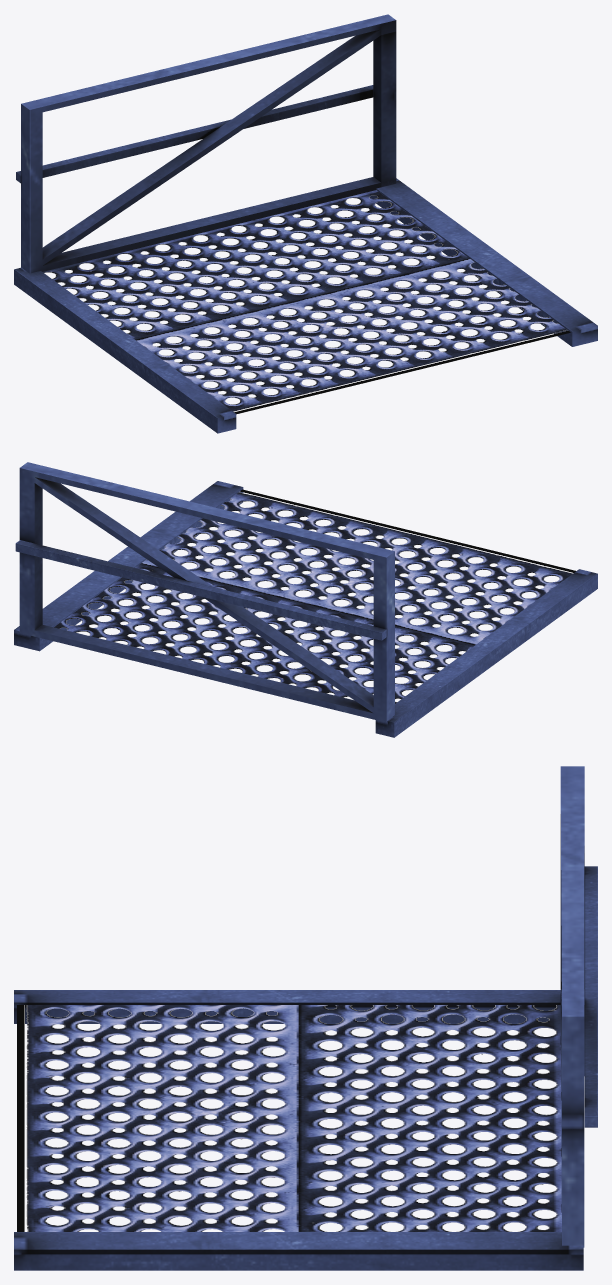
Rendered from WalkwayT.FBX.
The picture shows the model from 3 angles, top to bottom: view 1: azimuth 30°, elevation 25°; view 2: azimuth 150°, elevation 25°; view 3: azimuth 270°, elevation 25°; orthographic projection. The views are drawn at different scales.
Parts seen in each view (by area): view 1: Box005, Object037, Object038; view 2: Box005, Object037, Object038; view 3: Box005, Object038, Object037.
Part boxes in pixels (<box>): Box005: <box>16,14,570,414</box>; Object037: <box>14,267,236,433</box>; Object038: <box>369,178,597,346</box>; Box005: <box>15,462,575,722</box>; Object037: <box>375,569,597,737</box>; Object038: <box>14,481,243,651</box>; Box005: <box>17,766,597,1247</box>; Object038: <box>14,1232,583,1270</box>; Object037: <box>14,990,560,1023</box>.
Bounding box in the file's own units: 1580 × 710 × 1503.
